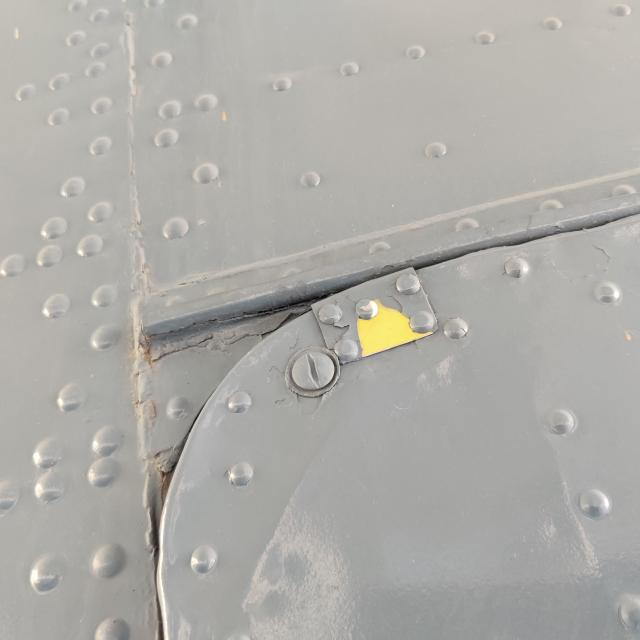paint-off: (343, 292, 444, 376)
